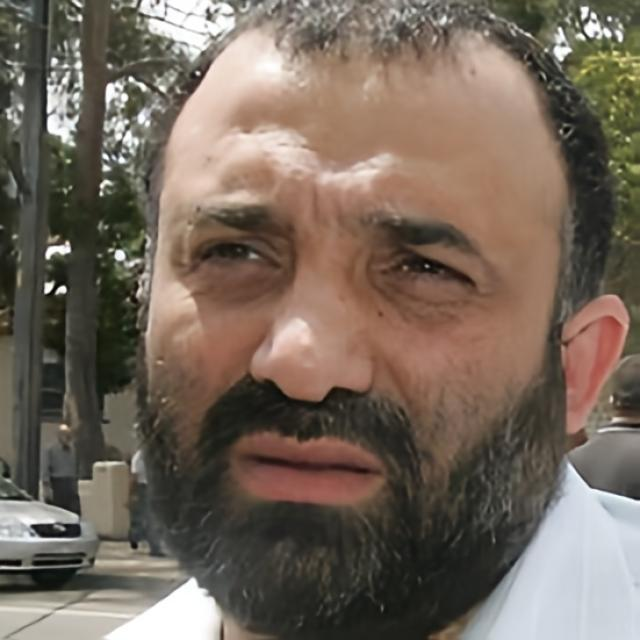disgust: (142, 39, 558, 600)
